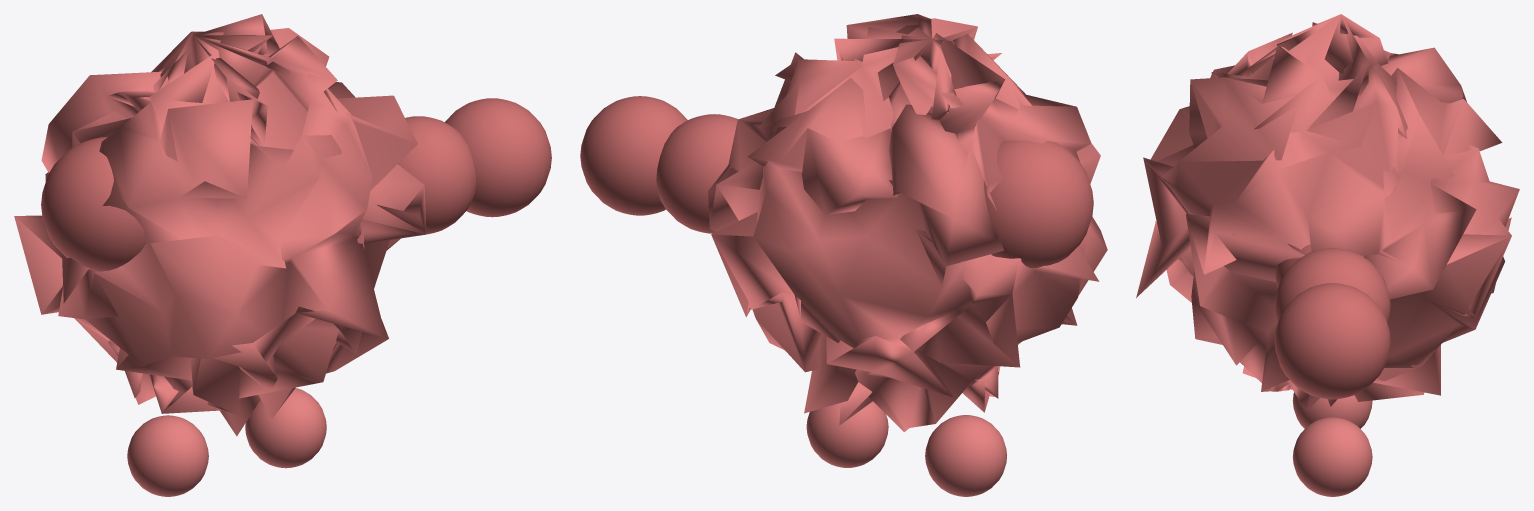
The model's file is clay_balloon_dog.glb.
The picture shows the model from 3 angles, left to right: view 1: azimuth 30°, elevation 25°; view 2: azimuth 150°, elevation 25°; view 3: azimuth 270°, elevation 25°; orthographic projection. The views are drawn at different scales.
Parts seen in each view (by area): view 1: leg.001; view 2: leg.001; view 3: leg.001.
Boxes of the visible parts, <box> form: leg.001: <box>14,14,551,496</box>; leg.001: <box>580,14,1107,496</box>; leg.001: <box>1136,14,1519,496</box>.
Size of the model in its own units: 1.51 by 1.31 by 1.04.
